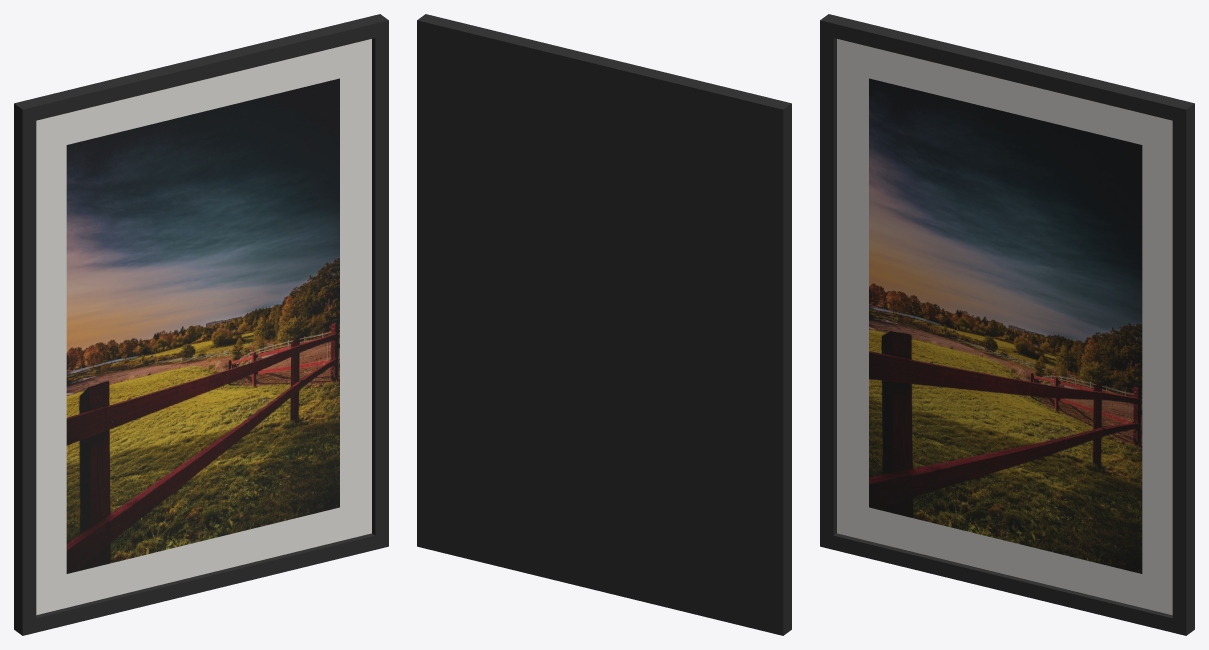
The model's file is hagen-60.gltf.
The picture shows the model from 3 angles, left to right: view 1: azimuth 30°, elevation 25°; view 2: azimuth 150°, elevation 25°; view 3: azimuth 330°, elevation 25°; orthographic projection.
Parts seen in each view (by area): view 1: tavla; view 2: tavla; view 3: tavla.
Part boxes in pixels (x1=…): tavla: x1=14, y1=14, x2=388, y2=635; tavla: x1=417, y1=14, x2=791, y2=635; tavla: x1=820, y1=14, x2=1194, y2=635.
Size of the model in its own units: 0.536 by 0.736 by 0.022.
Materials: 3 (1 with a texture image).
